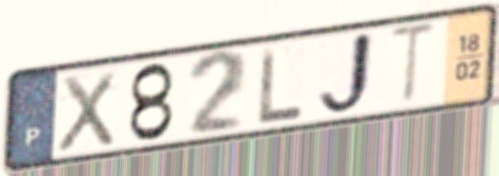2: (186, 47, 250, 141)
8: (127, 61, 176, 144)
J: (314, 29, 377, 119)
L: (257, 43, 305, 128)
T: (386, 19, 441, 110)
X: (54, 67, 118, 156)
